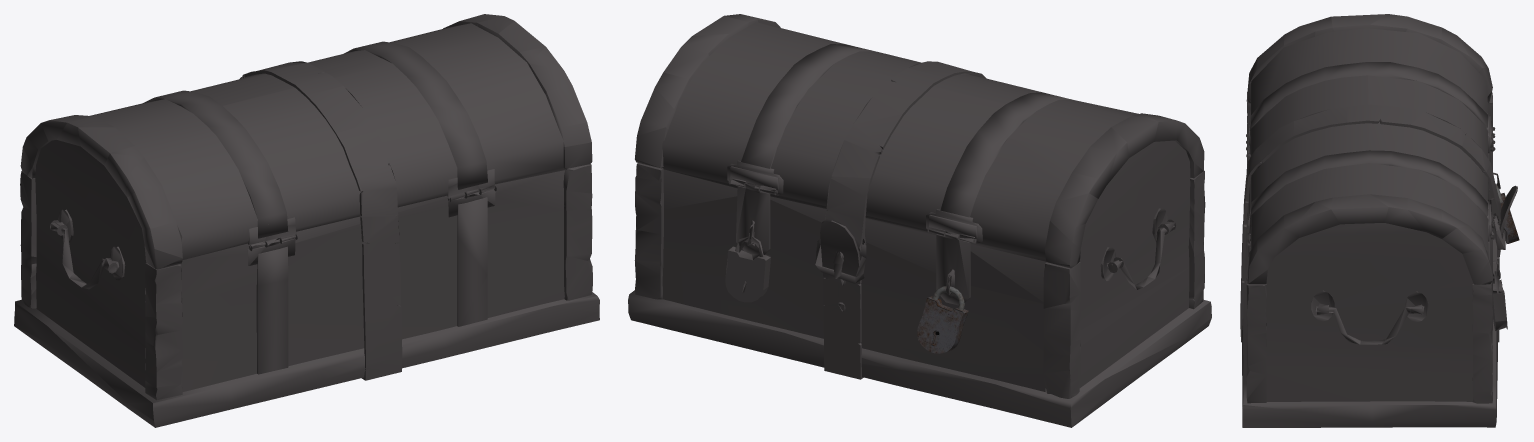
The model's file is medival chest.fbx.
3 views of the same model, side by side, from view 1: azimuth 30°, elevation 25°; view 2: azimuth 150°, elevation 25°; view 3: azimuth 270°, elevation 25° (orthographic). The views are drawn at different scales.
Parts seen in each view (by area): view 1: g Treasure_Chest_Lowpoly3:Lucchetto Treasure_Chest_Lowpoly3:; view 2: g Treasure_Chest_Lowpoly3:Lucchetto Treasure_Chest_Lowpoly3:; view 3: g Treasure_Chest_Lowpoly3:Lucchetto Treasure_Chest_Lowpoly3:.
Part boxes in pixels (<box>): g Treasure_Chest_Lowpoly3:Lucchetto Treasure_Chest_Lowpoly3:: <box>14,14,599,427</box>; g Treasure_Chest_Lowpoly3:Lucchetto Treasure_Chest_Lowpoly3:: <box>628,14,1211,427</box>; g Treasure_Chest_Lowpoly3:Lucchetto Treasure_Chest_Lowpoly3:: <box>1240,14,1519,427</box>.
Bounding box in the file's own units: 200 × 103 × 115.
1 material, 1 textured.
